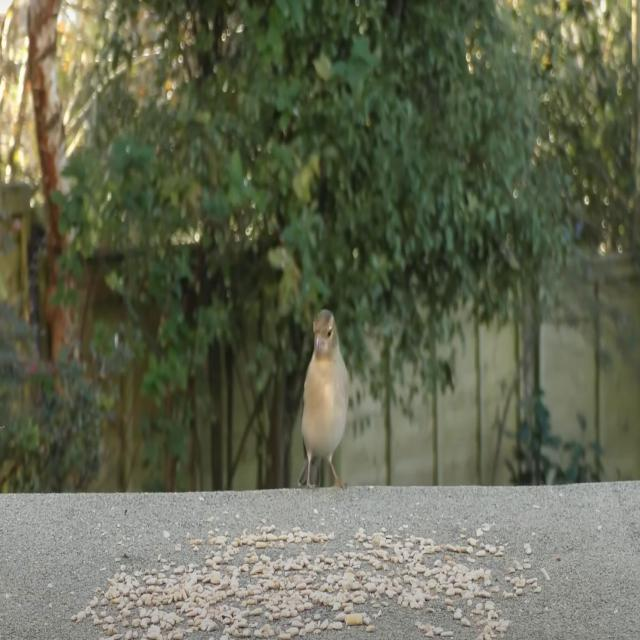beak: (314, 332, 324, 354)
bird: (300, 308, 346, 496)
